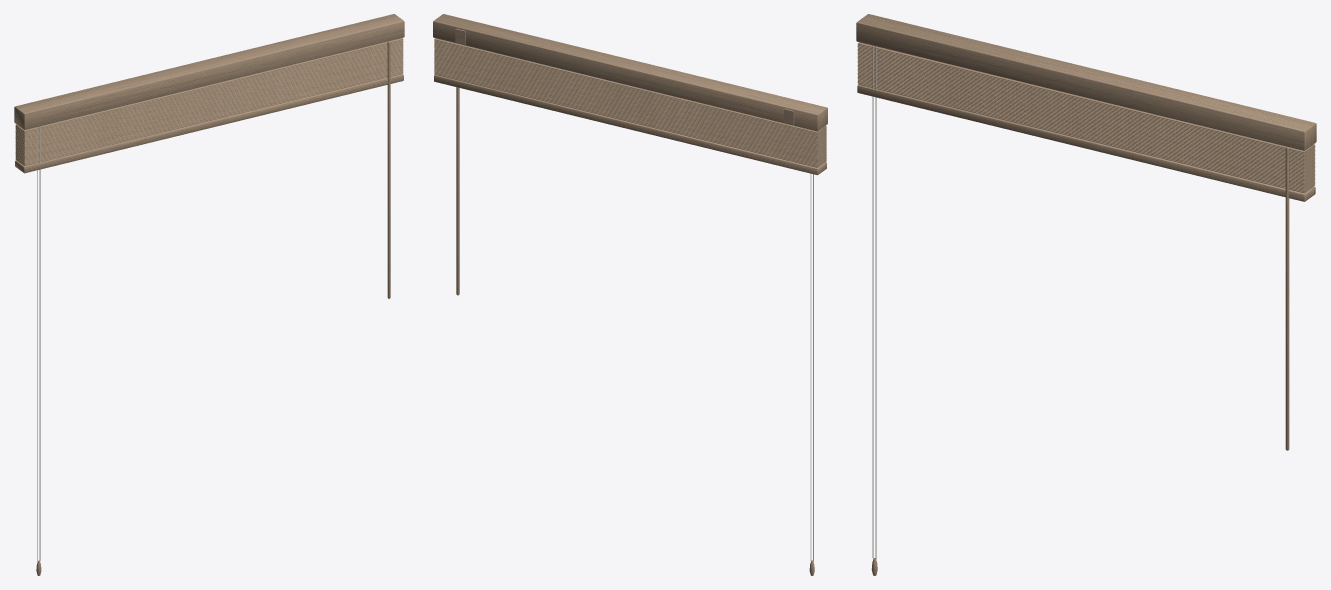
File: veneciana_madera_140_c0.glb
3 renders of one model, left to right at view 1: azimuth 30°, elevation 25°; view 2: azimuth 150°, elevation 25°; view 3: azimuth 330°, elevation 25°, orthographic. The views are drawn at different scales.
Parts seen in each view (by area): view 1: veneciana_madera_140_c0; view 2: veneciana_madera_140_c0; view 3: veneciana_madera_140_c0.
Boxes of the visible parts, box(x1,y1,x2,y2) form: veneciana_madera_140_c0: box(14, 14, 404, 575); veneciana_madera_140_c0: box(433, 14, 827, 575); veneciana_madera_140_c0: box(856, 14, 1316, 575).
Size of the model in its own units: 1.2 by 1.4 by 0.0639.
Materials: 2 (1 with a texture image).
